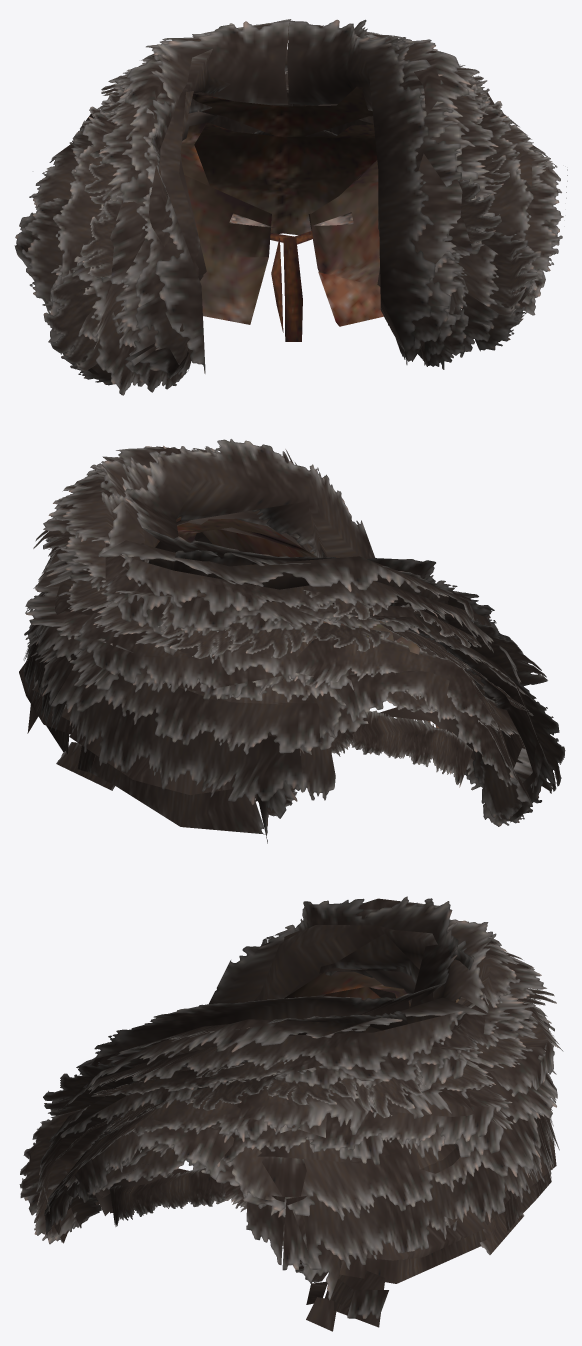
The model's file is OracleFurCowl_Ground.fbx.
The picture shows the model from 3 angles, top to bottom: view 1: azimuth 30°, elevation 25°; view 2: azimuth 150°, elevation 25°; view 3: azimuth 270°, elevation 25°; orthographic projection. The views are drawn at different scales.
Parts seen in each view (by area): view 1: OracleFurCowl; view 2: OracleFurCowl; view 3: OracleFurCowl.
Boxes of the visible parts, box(x1,y1,x2,y2) form: OracleFurCowl: box(14, 19, 567, 395); OracleFurCowl: box(19, 439, 565, 843); OracleFurCowl: box(19, 896, 563, 1331).
Size of the model in its own units: 0.3105 by 0.1778 by 0.2697.
